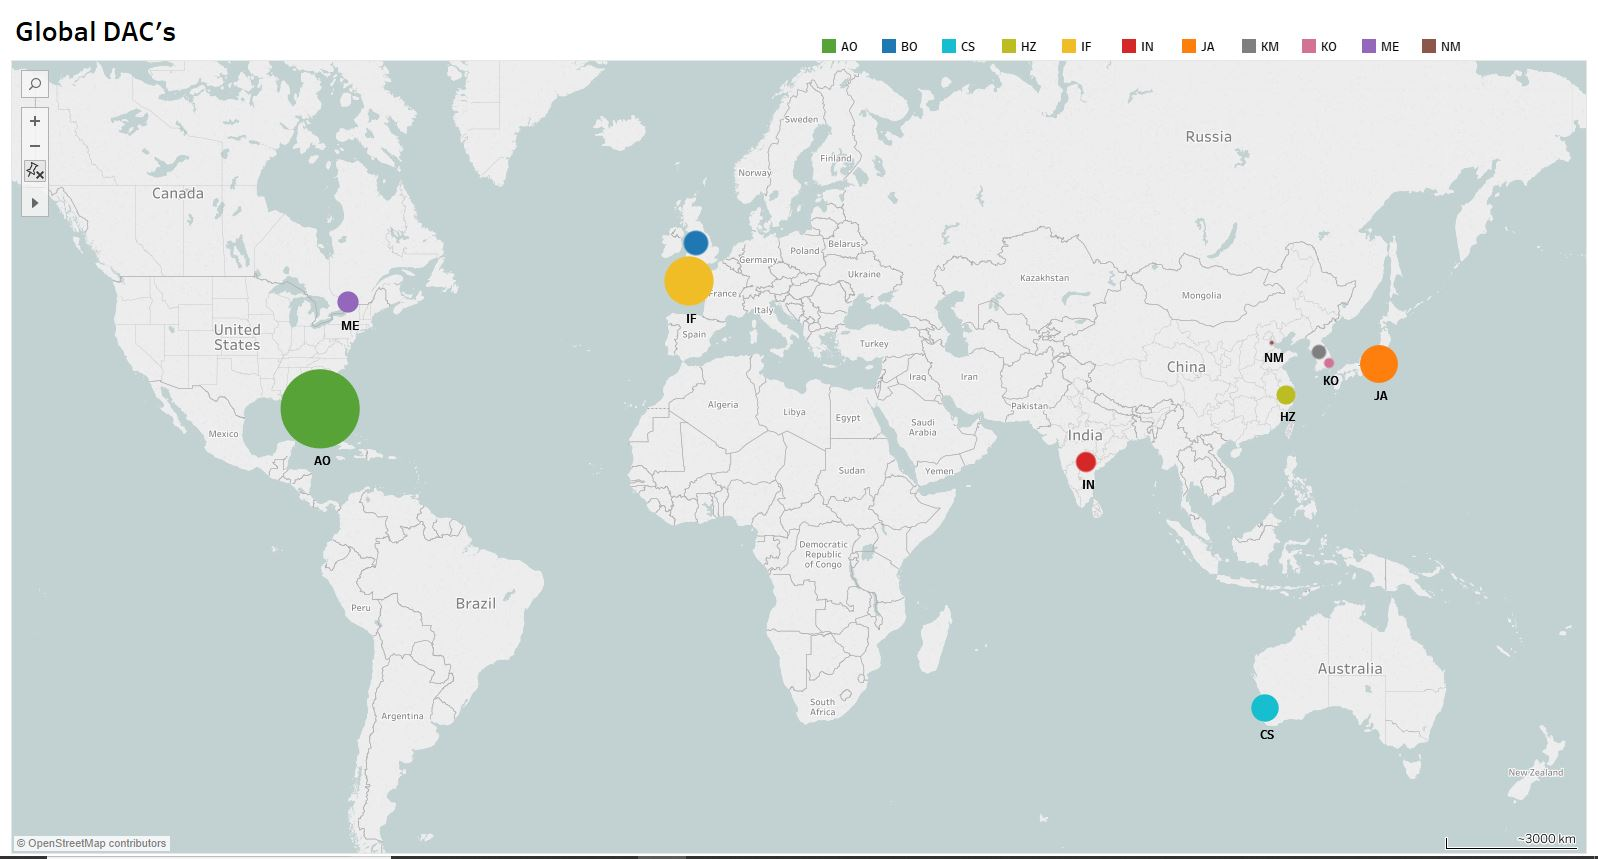

The page's visual inventory and layout, read from the dashboard file:
{"tool":"tableau","page":{"name":"Dashboard 2 (4)","canvas":[1000,1000],"units":"permille","ordinal":7},"visuals":[{"type":"filter","title":"Sheet 1 (8)","param":"[federated.056b33q0qvh23j18x2hsd0ejj9bh].[none:latitude:qk]","box":[309.6,4.1,115.2,76]},{"type":"filter","title":"Sheet 1 (8)","param":"[federated.056b33q0qvh23j18x2hsd0ejj9bh].[none:longitude:qk]","box":[435.6,4.1,115.2,74.6]},{"type":"parameter","param":"[Parameters].[Parameter 1]","box":[10.8,5.5,182.9,58]},{"type":"filter","title":"Sheet 1 (8)","param":"[federated.056b33q0qvh23j18x2hsd0ejj9bh].[none:ocean:nk]","box":[881.9,8.3,109.4,56.6]},{"type":"title","box":[5.8,11.1,988.5,60.8]},{"type":"filter","title":"Sheet 2 (4)","param":"[federated.056b33q0qvh23j18x2hsd0ejj9bh].[none:Calculation_1243837944441257984:n","box":[581,11.1,72,52.5]},{"type":"filter","title":"Sheet 1 (8)","param":"[federated.056b33q0qvh23j18x2hsd0ejj9bh].[none:date:qk]","box":[684,12.4,169.9,52.5]},{"type":"worksheet","title":"Sheet 1 (8)","mark":"Automatic","rows":["latitude"],"cols":["longitude"],"box":[5.8,71.8,988.5,376.1]},{"type":"legend","title":"Sheet 2 (4)","param":"[federated.056b33q0qvh23j18x2hsd0ejj9bh].[none:institution:nk]","box":[528.4,82.9,461.5,33.1]},{"type":"worksheet","title":"Sheet 2 (4)","mark":"Circle","box":[5.8,447.9,493.9,353.4]},{"type":"worksheet","title":"Sheet 7 (3)","mark":"Area","rows":["Calculation_1243837944444223489"],"cols":["date"],"box":[499.6,447.9,494.6,353.4]},{"type":"worksheet","title":"Sheet 6 (2)","mark":"Square","cols":["Calculation_1243837944446746626","institution"],"box":[5.8,801.4,988.5,187.6]}]}

Visuals, with their boxes on the dashboard's canvas, which has no fixed pixel size, in thousandths of its width and height (x1, y1, x2, y2). These are canvas units, not pixel positions in the 1598x859 screenshot, which may show the page scaled, cropped or inside an application window:
"Sheet 1 (8)" filter: rect(310, 4, 425, 80)
"Sheet 1 (8)" filter: rect(436, 4, 551, 79)
parameter: rect(11, 6, 194, 64)
"Sheet 1 (8)" filter: rect(882, 8, 991, 65)
title: rect(6, 11, 994, 72)
"Sheet 2 (4)" filter: rect(581, 11, 653, 64)
"Sheet 1 (8)" filter: rect(684, 12, 854, 65)
"Sheet 1 (8)" worksheet: rect(6, 72, 994, 448)
"Sheet 2 (4)" legend: rect(528, 83, 990, 116)
"Sheet 2 (4)" worksheet (Circle marks): rect(6, 448, 500, 801)
"Sheet 7 (3)" worksheet (Area marks): rect(500, 448, 994, 801)
"Sheet 6 (2)" worksheet (Square marks): rect(6, 801, 994, 989)
